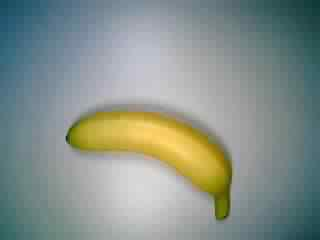banana: (65, 104, 240, 221)
